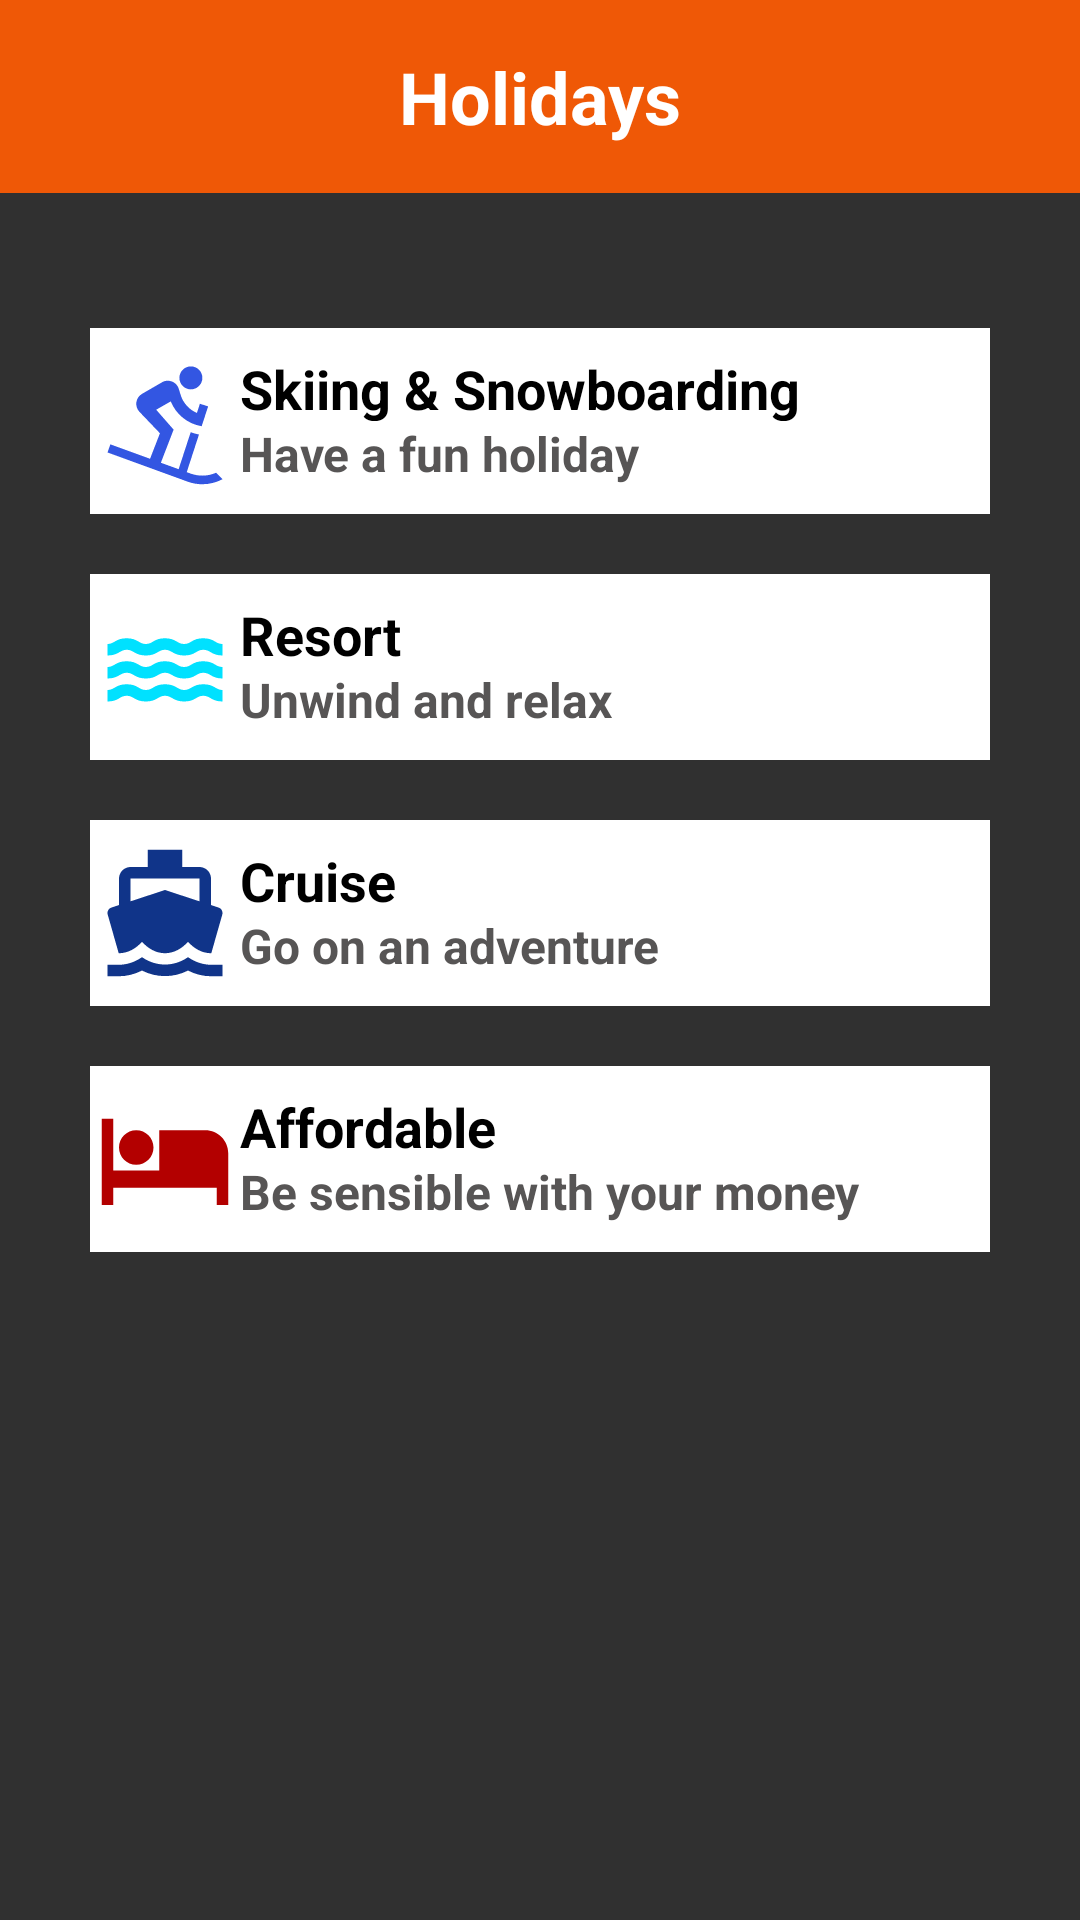

Named icons in this screenshot (1080*1920) and their bounding boxes, (x1, y1, x2, y2):
hotel: (101, 1118, 229, 1205)
ski: (107, 366, 223, 485)
